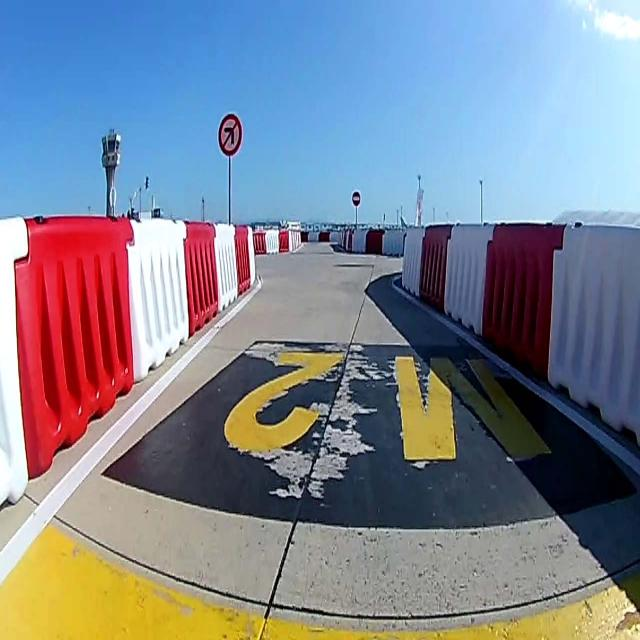girisyok: (352, 191, 361, 207)
soladonulmez: (218, 113, 242, 155)
